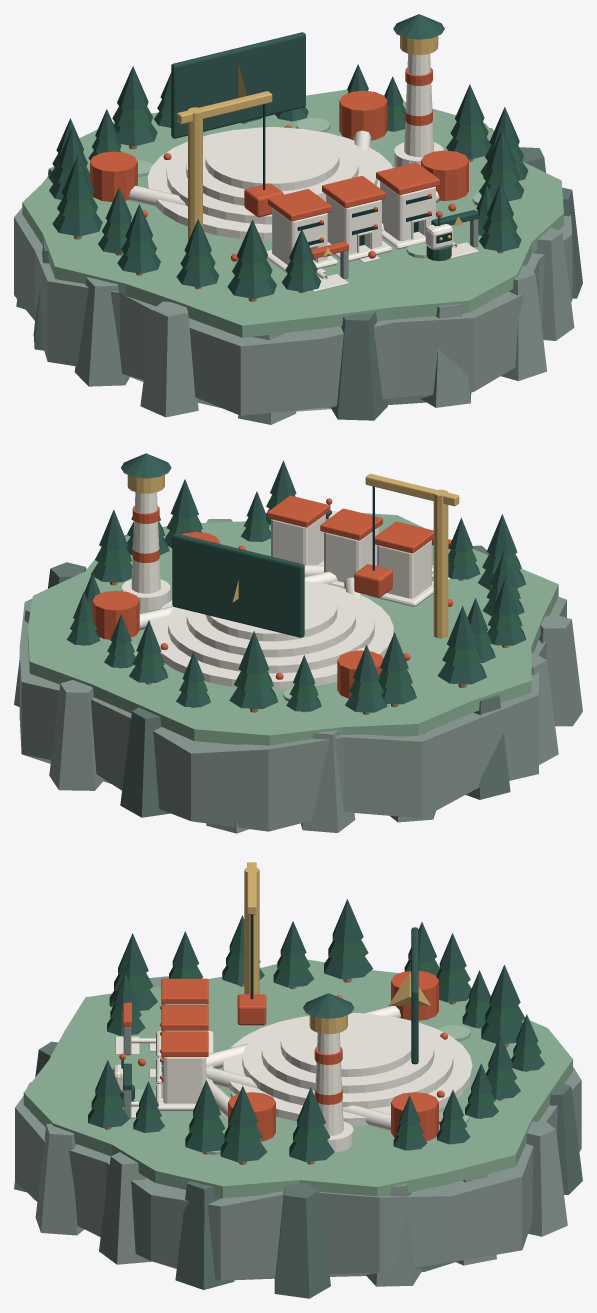
File: chapter-14.glb
3 renders of one model, top to bottom at view 1: azimuth 30°, elevation 25°; view 2: azimuth 150°, elevation 25°; view 3: azimuth 270°, elevation 25°, orthographic.
Parts seen in each view (by area): view 1: terrain, rock_base, cinema_screen, cinema_terrace_3, cliff_facet_10, cliff_facet_12, cliff_facet_09, cliff_facet_15, cliff_facet_14, cinema_terrace_0, cinema_terrace_1, cinema_terrace_2 (+44 smaller); view 2: rock_base, terrain, cinema_screen, cliff_facet_03, cinema_terrace_1, cinema_terrace_2, cinema_terrace_0, cliff_facet_04, cliff_facet_10, cinema_terrace_3, cliff_facet_06, landmark_upload (+41 smaller); view 3: terrain, rock_base, cinema_terrace_3, cliff_facet_00, cinema_terrace_1, cinema_terrace_2, cliff_facet_14, cliff_facet_03, cliff_facet_15, cliff_facet_16, cinema_terrace_0, cliff_facet_04 (+38 smaller).
Part boxes in pixels (x1=…): terrain: x1=22, y1=89, x2=563, y2=337; rock_base: x1=14, y1=128, x2=572, y2=415; cinema_screen: x1=171, y1=32, x2=305, y2=138; cinema_terrace_3: x1=205, y1=127, x2=339, y2=191; cliff_facet_10: x1=140, y1=301, x2=198, y2=417; cliff_facet_12: x1=331, y1=312, x2=387, y2=420; cliff_facet_09: x1=74, y1=277, x2=129, y2=386; cliff_facet_15: x1=533, y1=227, x2=574, y2=340; cliff_facet_14: x1=501, y1=265, x2=547, y2=380; cinema_terrace_0: x1=147, y1=129, x2=392, y2=240; cinema_terrace_1: x1=166, y1=128, x2=377, y2=224; cinema_terrace_2: x1=186, y1=128, x2=358, y2=205; rock_base: x1=19, y1=596, x2=566, y2=831; terrain: x1=27, y1=511, x2=558, y2=745; cinema_screen: x1=172, y1=533, x2=304, y2=637; cliff_facet_03: x1=49, y1=680, x2=104, y2=790; cinema_terrace_1: x1=168, y1=580, x2=374, y2=673; cinema_terrace_2: x1=186, y1=581, x2=355, y2=657; cinema_terrace_0: x1=150, y1=582, x2=393, y2=689; cliff_facet_04: x1=120, y1=707, x2=170, y2=817; cliff_facet_10: x1=539, y1=614, x2=582, y2=726; cinema_terrace_3: x1=205, y1=582, x2=337, y2=641; cliff_facet_06: x1=300, y1=730, x2=355, y2=832; landmark_upload: x1=433, y1=489, x2=448, y2=638; terrain: x1=23, y1=959, x2=572, y2=1198; rock_base: x1=15, y1=1066, x2=581, y2=1280; cinema_terrace_3: x1=280, y1=1012, x2=411, y2=1076; cliff_facet_00: x1=274, y1=1183, x2=330, y2=1298; cinema_terrace_1: x1=242, y1=1013, x2=453, y2=1108; cinema_terrace_2: x1=261, y1=1013, x2=434, y2=1093; cliff_facet_14: x1=35, y1=1123, x2=84, y2=1235; cliff_facet_03: x1=526, y1=1121, x2=567, y2=1236; cliff_facet_15: x1=99, y1=1152, x2=151, y2=1264; cliff_facet_16: x1=175, y1=1181, x2=234, y2=1289; cinema_terrace_0: x1=223, y1=1016, x2=472, y2=1125; cliff_facet_04: x1=550, y1=1082, x2=582, y2=1194.
Size of the model in its own units: 12.14 by 6.09 by 11.87.
